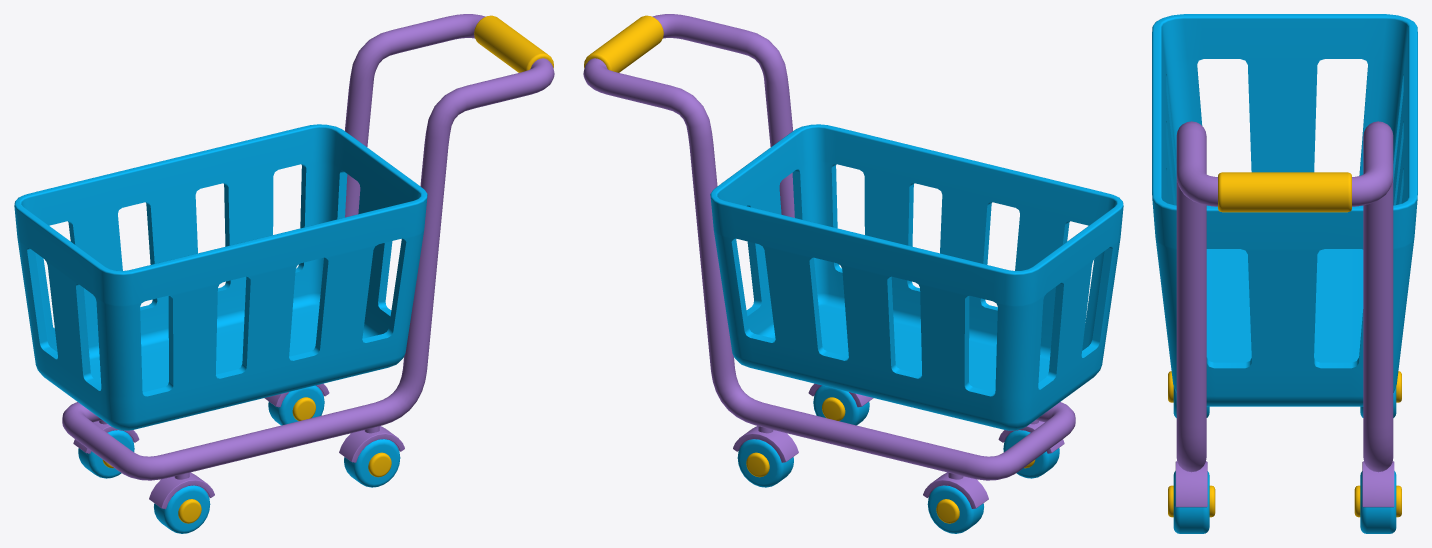
Rendered from Public_10_Trolley_on_Wheels_1.glb.
3 renders of one model, left to right at view 1: azimuth 30°, elevation 25°; view 2: azimuth 150°, elevation 25°; view 3: azimuth 270°, elevation 25°, orthographic. The views are drawn at different scales.
Visible parts, largest first — view 1: Public_10_Trolley_on_Wheels_1; view 2: Public_10_Trolley_on_Wheels_1; view 3: Public_10_Trolley_on_Wheels_1.
Boxes of the visible parts, box(x1,y1,x2,y2) form: Public_10_Trolley_on_Wheels_1: box(14, 14, 554, 533); Public_10_Trolley_on_Wheels_1: box(583, 14, 1123, 533); Public_10_Trolley_on_Wheels_1: box(1152, 14, 1417, 533).
Bounding box in the file's own units: 6.65 × 5.09 × 2.64.
1 material, 1 textured.
